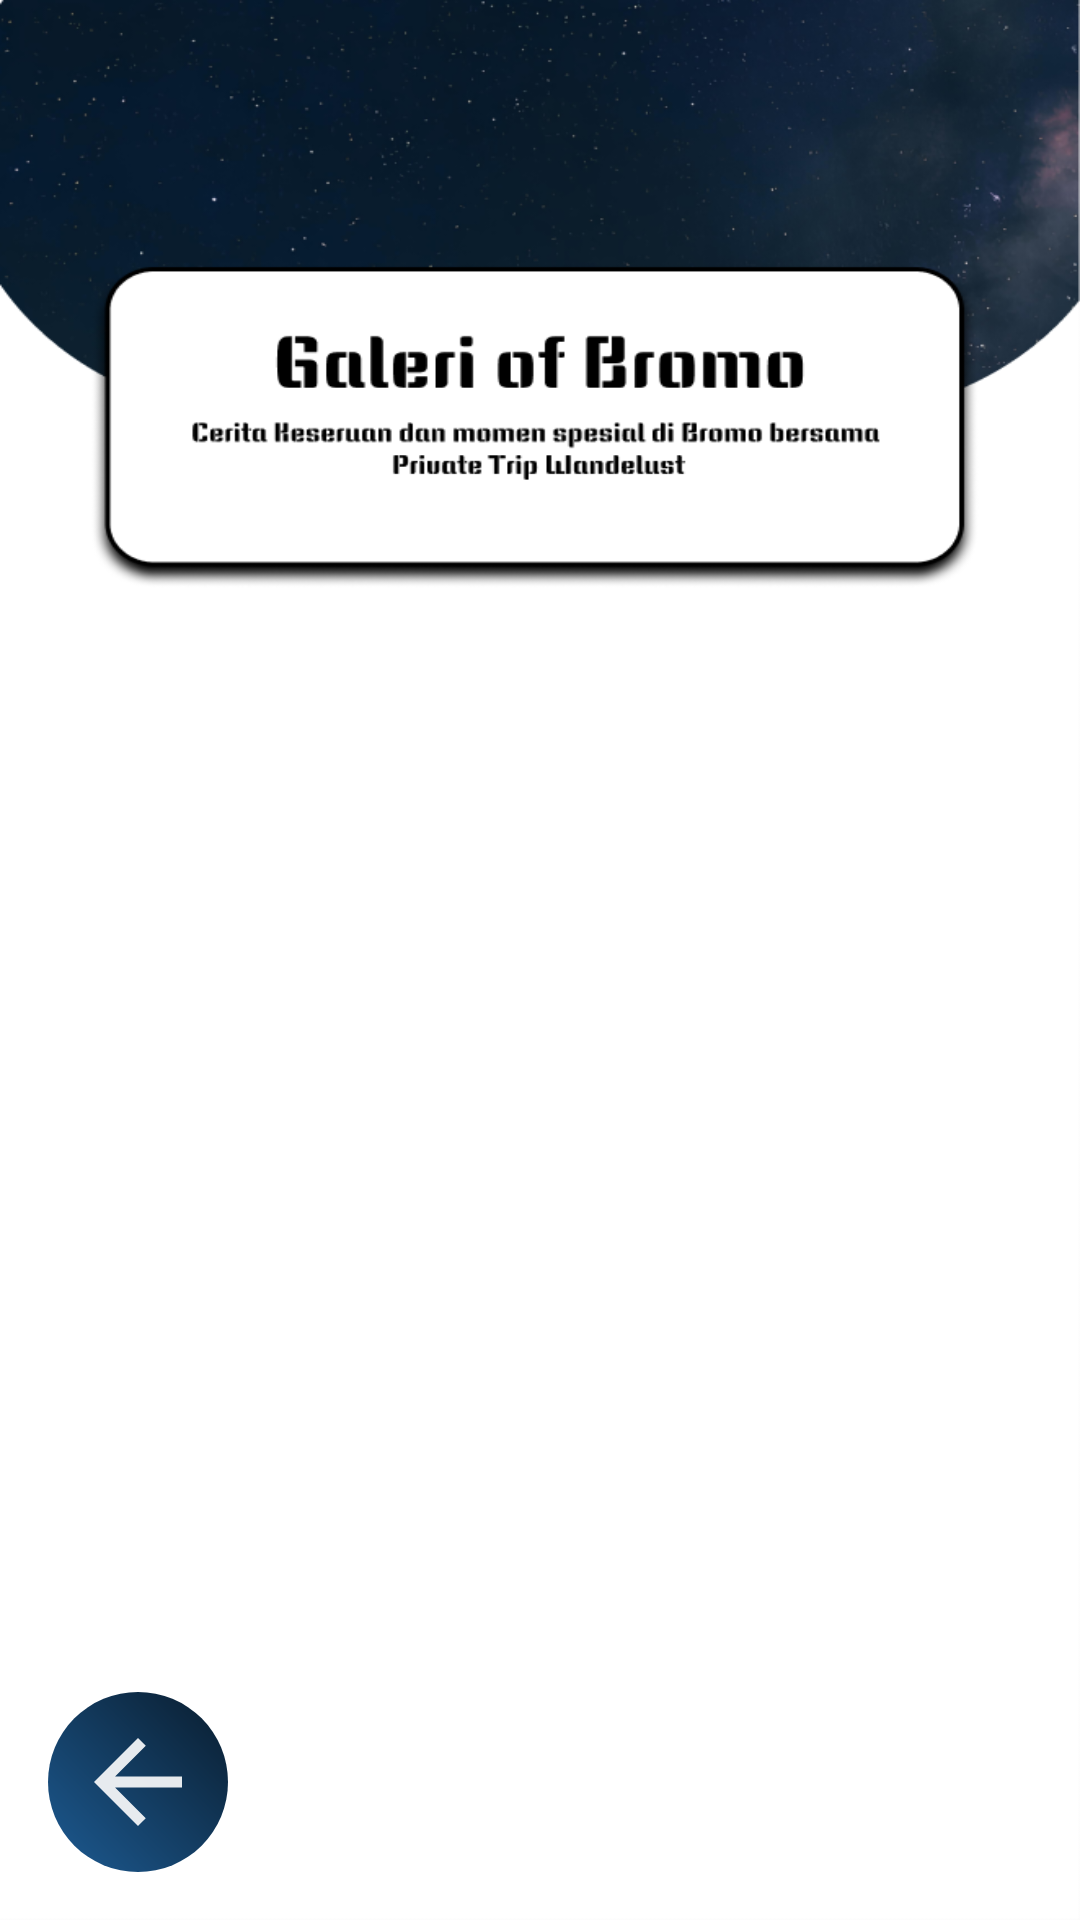

Icon click points for this 1080 × 1920 phone screenshot, format (x=x, y=y):
back: (x=138, y=1782)
